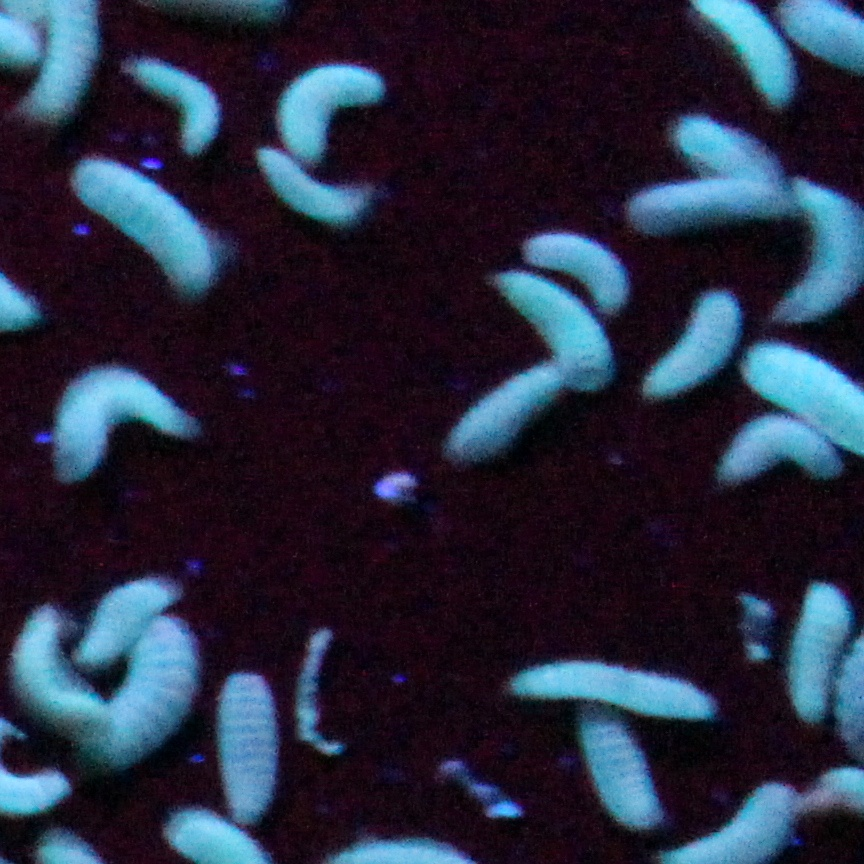larve: (62, 154, 215, 301), (36, 368, 209, 469), (491, 266, 615, 389), (762, 142, 845, 323), (102, 611, 191, 766), (573, 701, 670, 836), (272, 48, 392, 156), (636, 283, 747, 395), (3, 606, 102, 730), (515, 658, 708, 719), (448, 358, 555, 462), (251, 144, 383, 228), (213, 658, 276, 822), (672, 109, 788, 196), (130, 45, 226, 149), (524, 218, 632, 303), (717, 410, 844, 477), (624, 179, 791, 229), (787, 572, 836, 725), (85, 567, 160, 662)
